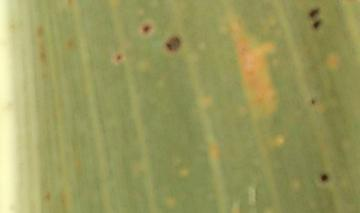tarspot: (164, 36, 181, 53), (309, 8, 320, 18), (319, 172, 329, 183), (313, 19, 323, 29), (140, 24, 151, 33), (115, 54, 125, 63), (311, 99, 318, 107)
